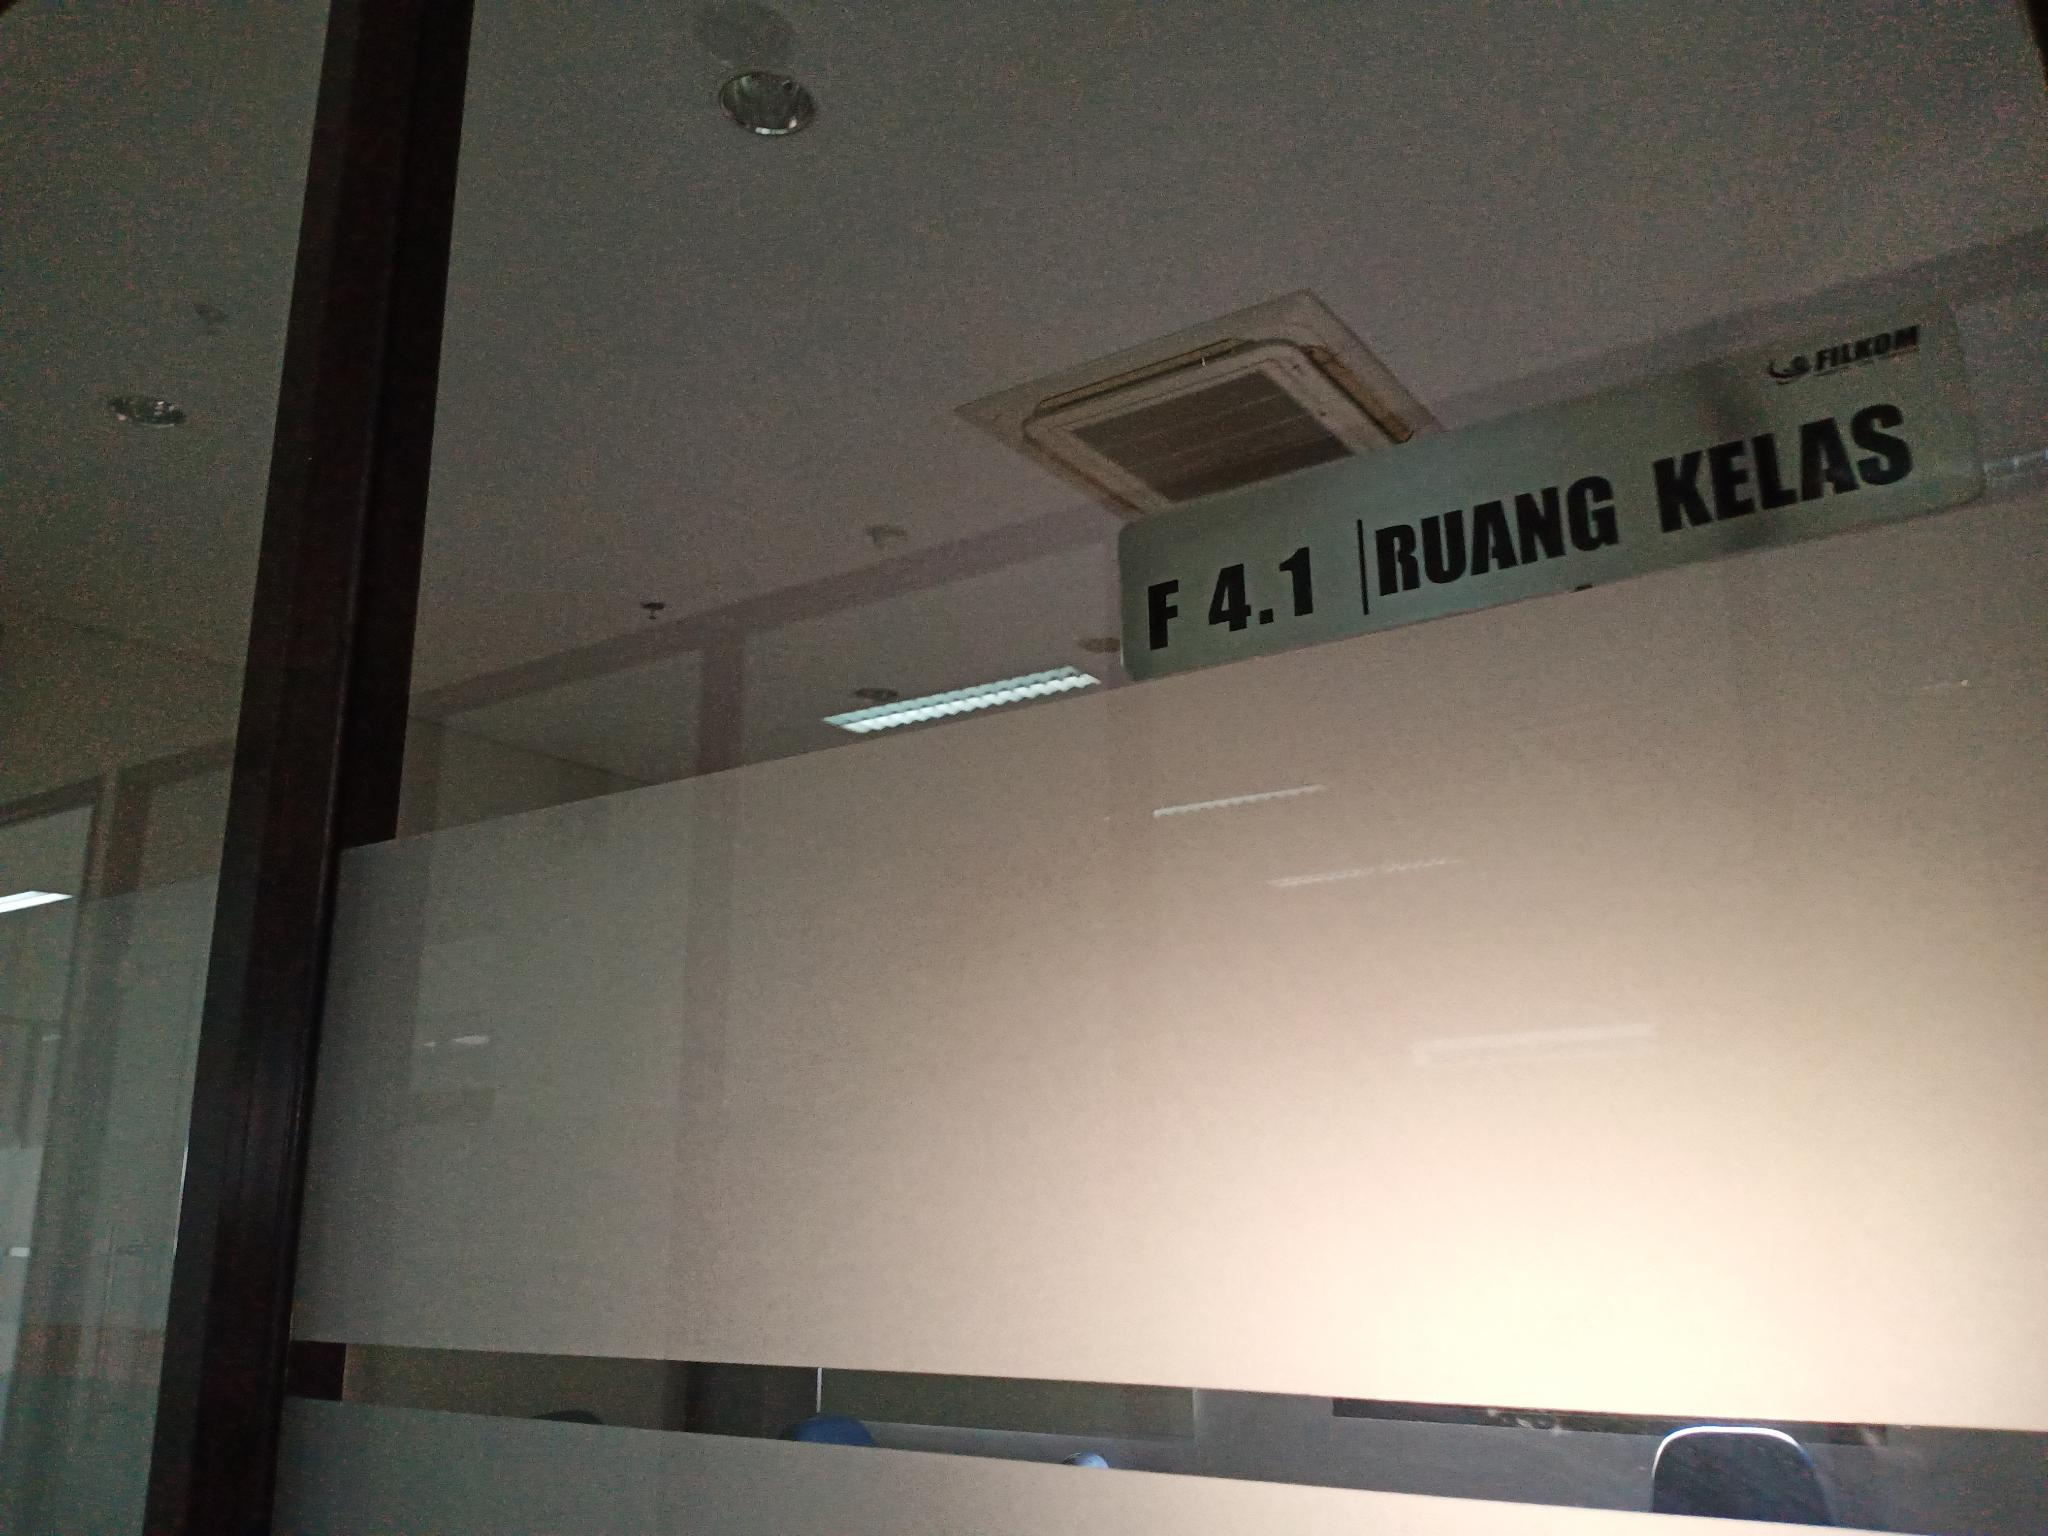plate: (1116, 298, 1988, 684)
